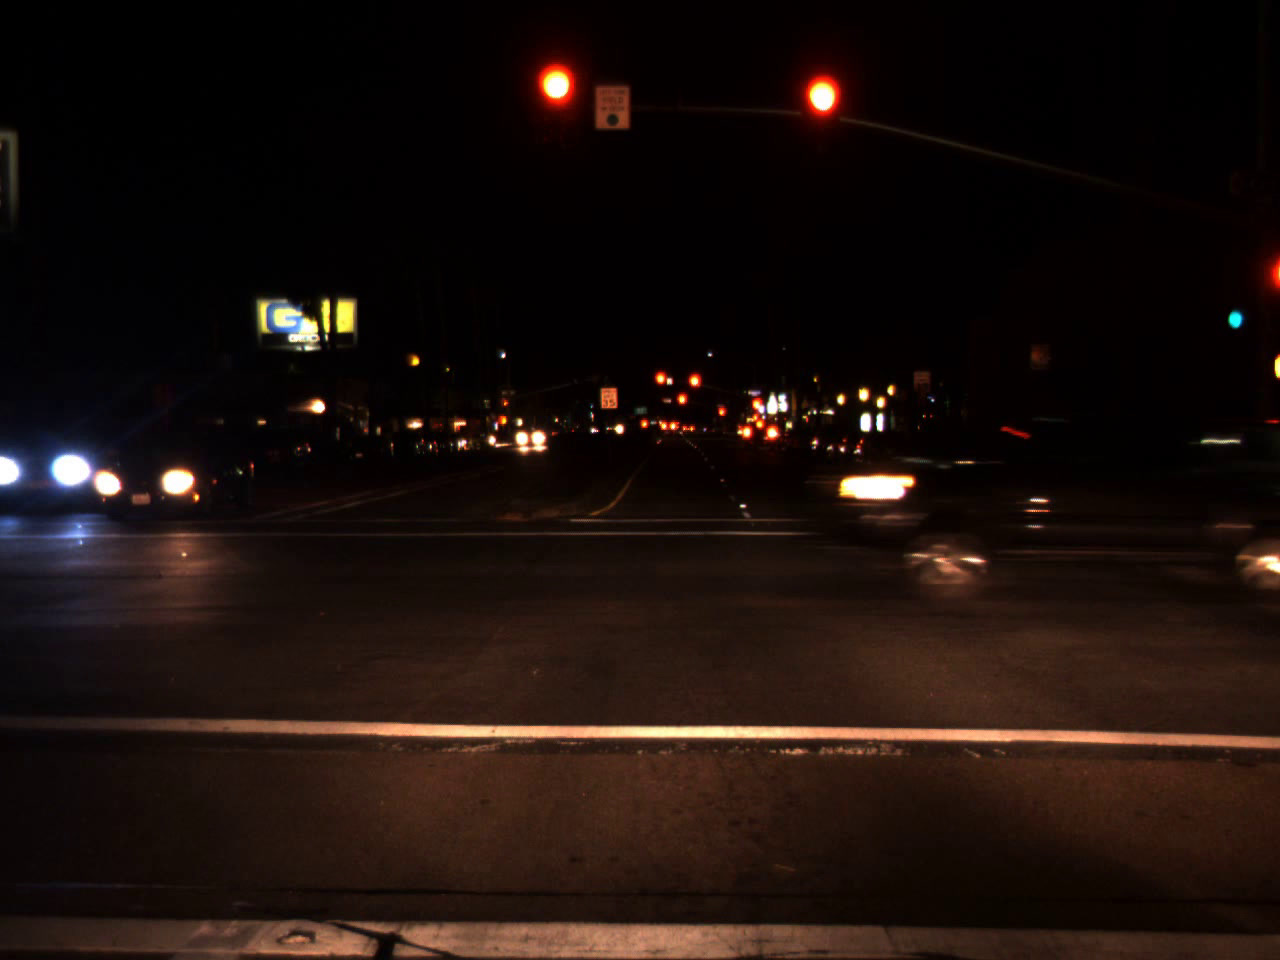stop: (537, 64, 577, 142), (801, 76, 841, 154), (653, 369, 671, 401), (686, 371, 702, 403), (674, 391, 689, 418), (750, 394, 766, 412), (717, 406, 727, 427), (503, 398, 509, 414)
